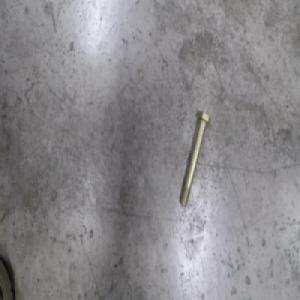Bolt: (177, 110, 210, 209)
